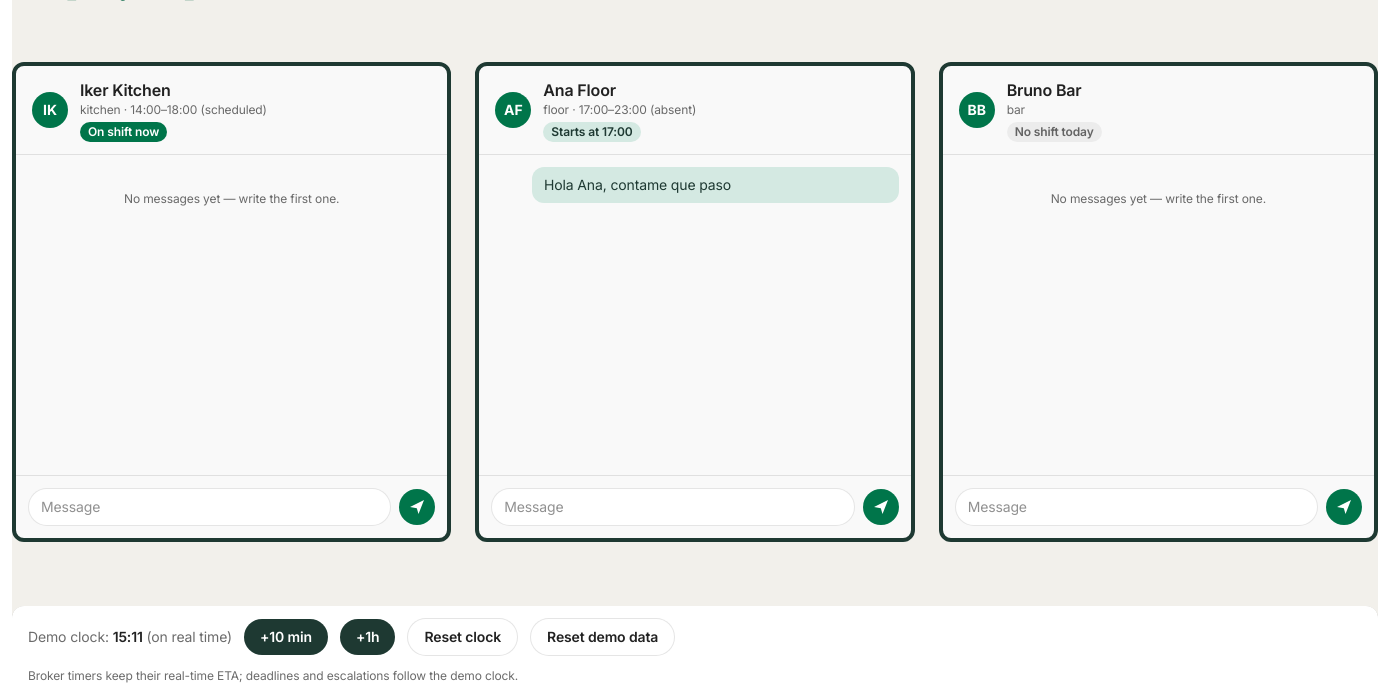
SimulatorScreen (spec §7.6, real data) › says when the endpoint clamped an advance at the ±6 h bound
The width and height of the screenshot is (1378, 699).
expect the text "15:11" is shown: met, box [113,628,143,645]
Click the button "+1h".
click(368, 637)  # box [340,619,396,655]
(page scrolled)
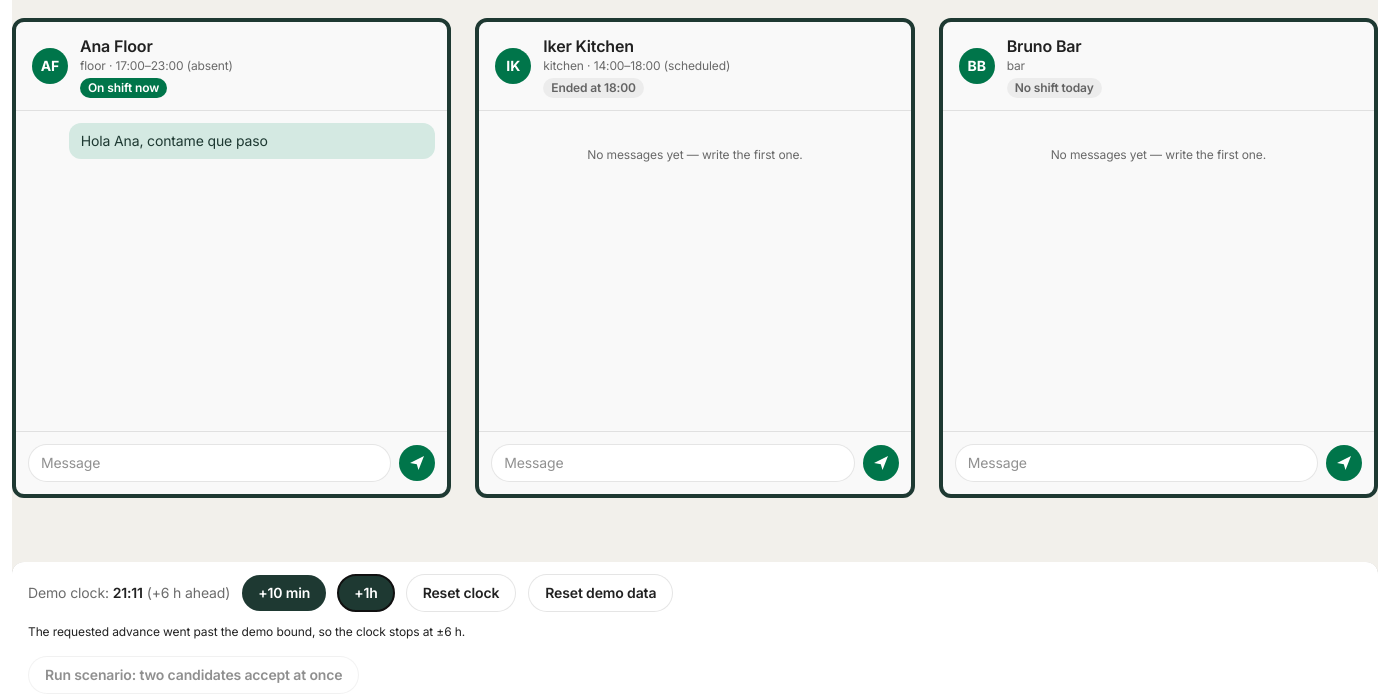
expect the text "The requested advance went past the demo bound, so the clock stops at ±6 h." is shown: met, box [28,624,465,639]
